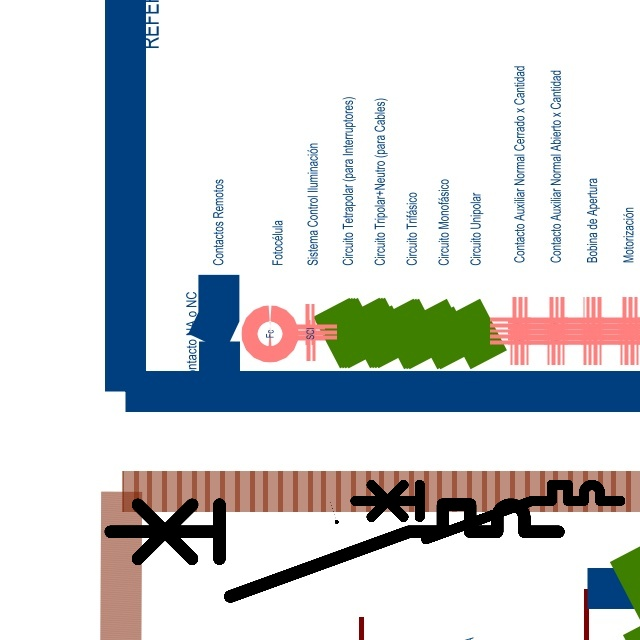interruptor_termomagnetico: (99, 493, 570, 608), (348, 478, 627, 546)
